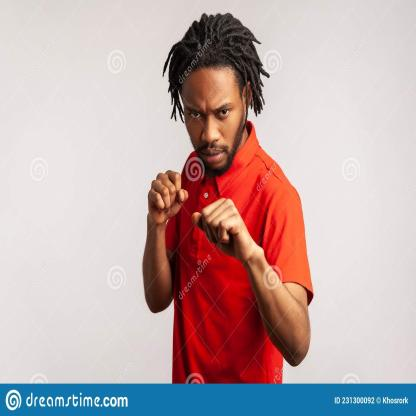fist: (192, 198, 246, 249), (145, 166, 192, 223)
